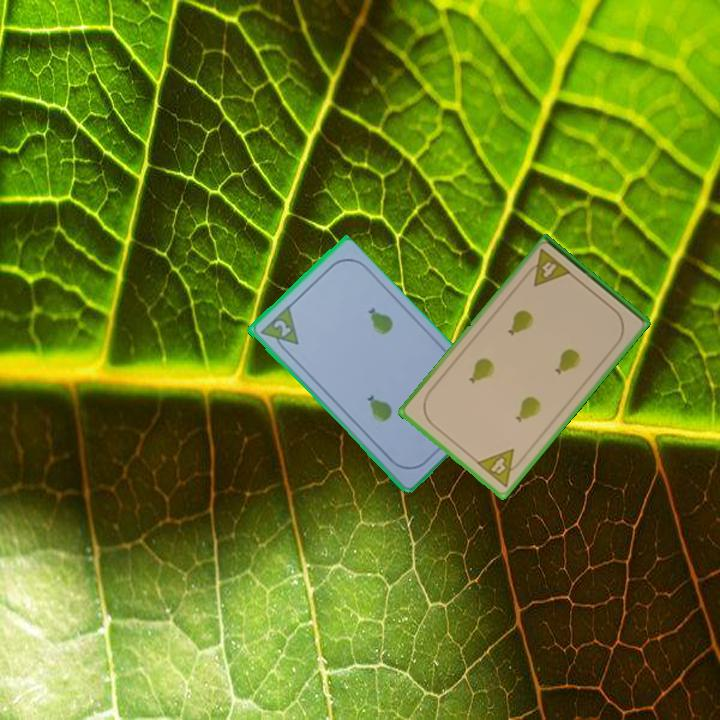2p: (256, 303, 301, 357)
4p: (473, 445, 527, 491), (521, 246, 574, 289)
